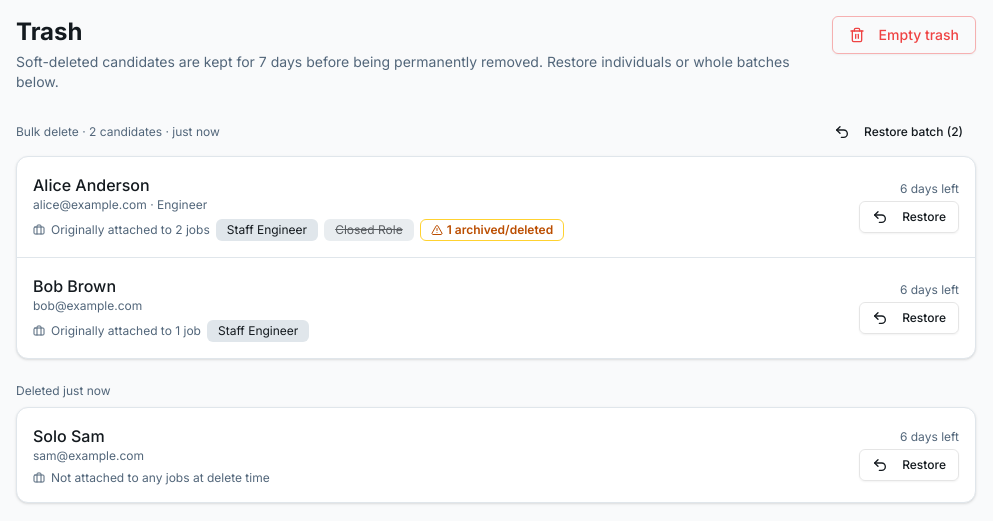
Test: TrashPage › Restore batch removes every row in that batch in one click
Click the button with test id "restore-batch-batch-bulk": [899, 132] box [821,116,976,148]
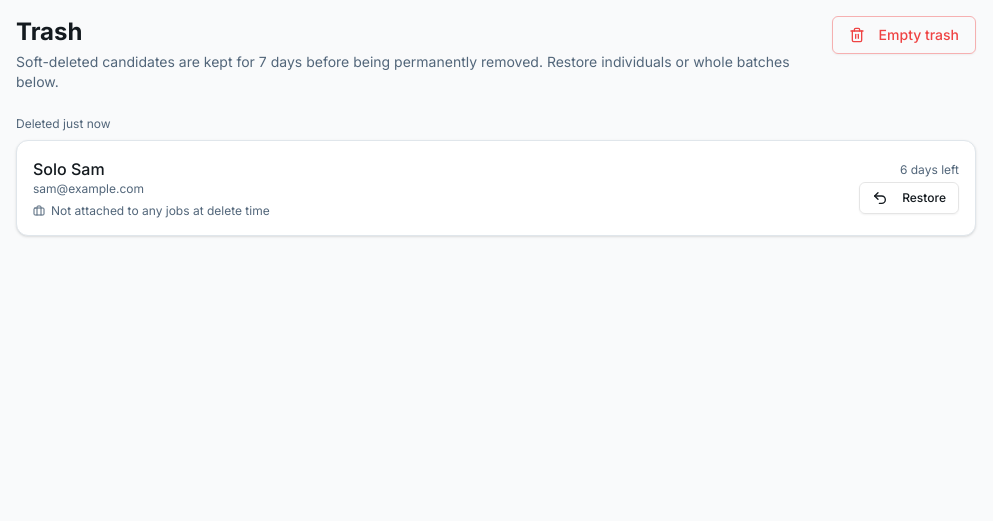
Expected: the element with test id "trash-row-3" is shown, [17,141,975,235]
Expected: the element with test id "trash-row-1" is gone
Expected: the element with test id "trash-row-2" is gone
